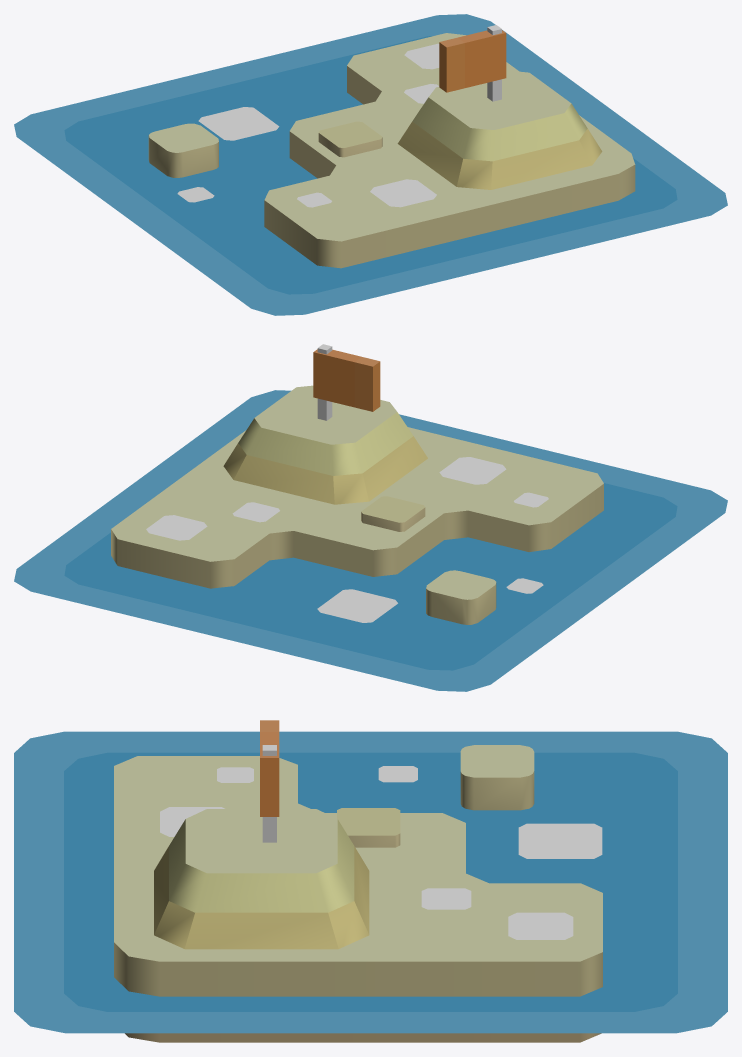
File: BC_cookrecipe_18.fbx
The picture shows the model from 3 angles, top to bottom: view 1: azimuth 30°, elevation 25°; view 2: azimuth 150°, elevation 25°; view 3: azimuth 270°, elevation 25°; orthographic projection. The views are drawn at different scales.
Visible parts, largest first — view 1: base, dan, dandan1, polySurface54, cream1, polySurface10, cream, polySurface53, polySurface52; view 2: base, dan, dandan1, polySurface54, cream1, polySurface10, cream, polySurface53, polySurface52, polySurface56; view 3: base, dan, dandan1, cream1, polySurface10, cream, polySurface54, polySurface52, polySurface56, polySurface53, polySurface2, polySurface51 (+1 smaller).
Boxes of the visible parts, x1,y1,x2,y2 form: base: [14, 14, 727, 315]; dan: [264, 33, 635, 268]; dandan1: [397, 70, 602, 189]; polySurface54: [439, 30, 506, 92]; cream1: [148, 123, 218, 177]; polySurface10: [198, 107, 279, 140]; cream: [318, 121, 382, 157]; polySurface53: [370, 179, 436, 207]; polySurface52: [404, 43, 439, 69]; base: [14, 390, 727, 691]; dan: [111, 427, 603, 588]; dandan1: [223, 385, 427, 504]; polySurface54: [313, 349, 380, 411]; cream1: [426, 570, 496, 624]; polySurface10: [317, 589, 397, 622]; cream: [361, 496, 425, 531]; polySurface53: [439, 457, 506, 484]; polySurface52: [146, 515, 207, 540]; polySurface56: [232, 502, 279, 522]; base: [14, 731, 727, 1033]; dan: [114, 756, 602, 1042]; dandan1: [154, 809, 369, 949]; cream1: [460, 745, 534, 810]; polySurface10: [518, 823, 602, 858]; cream: [337, 808, 400, 847]; polySurface54: [260, 720, 279, 816]; polySurface52: [508, 912, 573, 939]; polySurface56: [421, 888, 471, 909]; polySurface53: [160, 807, 224, 836]; polySurface2: [378, 766, 417, 782]; polySurface51: [217, 767, 253, 782].
Bounding box in the file's own units: 3.5 × 1.27 × 3.5.
